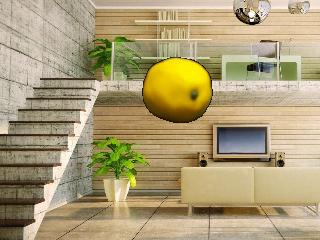lemon: (144, 58, 211, 123)
